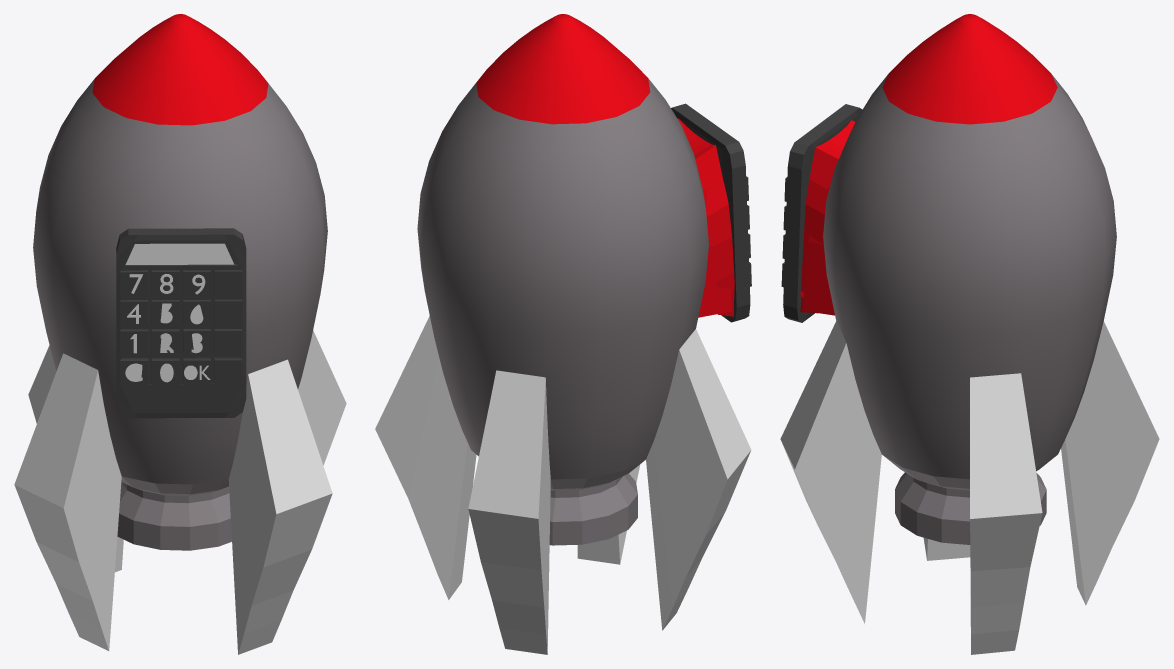
Rendered from Rocket ve numpad fix 2.fbx.
3 renders of one model, left to right at view 1: azimuth 30°, elevation 25°; view 2: azimuth 150°, elevation 25°; view 3: azimuth 270°, elevation 25°, orthographic.
Visible parts, largest first — view 1: BezierCurve.013, BezierCurve.014, BezierCurve.016, Cube.114, BezierCurve.000, Cube.115, Cube.136, Cube.141, Cube.119, Cube.137, Cube.132, Cube.140 (+10 smaller); view 2: BezierCurve.013, BezierCurve.014, BezierCurve.016, BezierCurve.000, Cube.114, Cylinder.016, Cylinder.014; view 3: BezierCurve.013, BezierCurve.014, BezierCurve.016, BezierCurve.000, Cube.114, Cylinder.016, Cylinder.014.
Part boxes in pixels (left/top/right/bottom): BezierCurve.013: left=33, top=79, right=327, bottom=484; BezierCurve.014: left=14, top=330, right=346, bottom=654; BezierCurve.016: left=92, top=14, right=268, bottom=125; Cube.114: left=116, top=228, right=246, bottom=418; BezierCurve.000: left=117, top=476, right=231, bottom=550; Cube.115: left=125, top=243, right=234, bottom=264; Cube.136: left=214, top=299, right=242, bottom=325; Cube.141: left=214, top=358, right=242, bottom=384; Cube.119: left=214, top=329, right=242, bottom=354; Cube.137: left=214, top=270, right=242, bottom=295; Cube.132: left=120, top=329, right=148, bottom=355; Cube.140: left=120, top=270, right=148, bottom=295; BezierCurve.013: left=417, top=78, right=708, bottom=479; BezierCurve.014: left=375, top=316, right=751, bottom=654; BezierCurve.016: left=476, top=14, right=650, bottom=124; BezierCurve.000: left=549, top=460, right=644, bottom=545; Cube.114: left=671, top=103, right=750, bottom=322; Cylinder.016: left=678, top=118, right=734, bottom=316; Cylinder.014: left=698, top=178, right=732, bottom=317; BezierCurve.013: left=823, top=74, right=1116, bottom=479; BezierCurve.014: left=780, top=321, right=1159, bottom=654; BezierCurve.016: left=882, top=14, right=1057, bottom=124; BezierCurve.000: left=883, top=455, right=1056, bottom=544; Cube.114: left=783, top=104, right=862, bottom=322; Cylinder.016: left=800, top=120, right=855, bottom=313; Cylinder.014: left=802, top=185, right=834, bottom=315.
Bounding box in the file's own units: 261 × 447 × 261.
